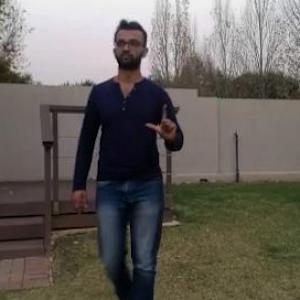land_hand: (142, 97, 184, 148)
